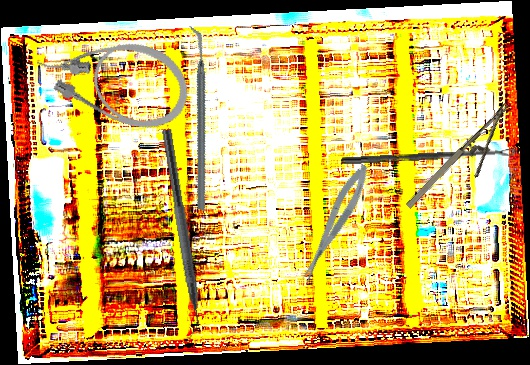Cannula: (27, 13, 201, 141)
Chopper: (125, 25, 270, 212), (147, 128, 209, 345)
Micro Scissor: (292, 160, 376, 288)
Needle Holder: (403, 102, 529, 226)
Surgical Spoon: (340, 148, 516, 166)
